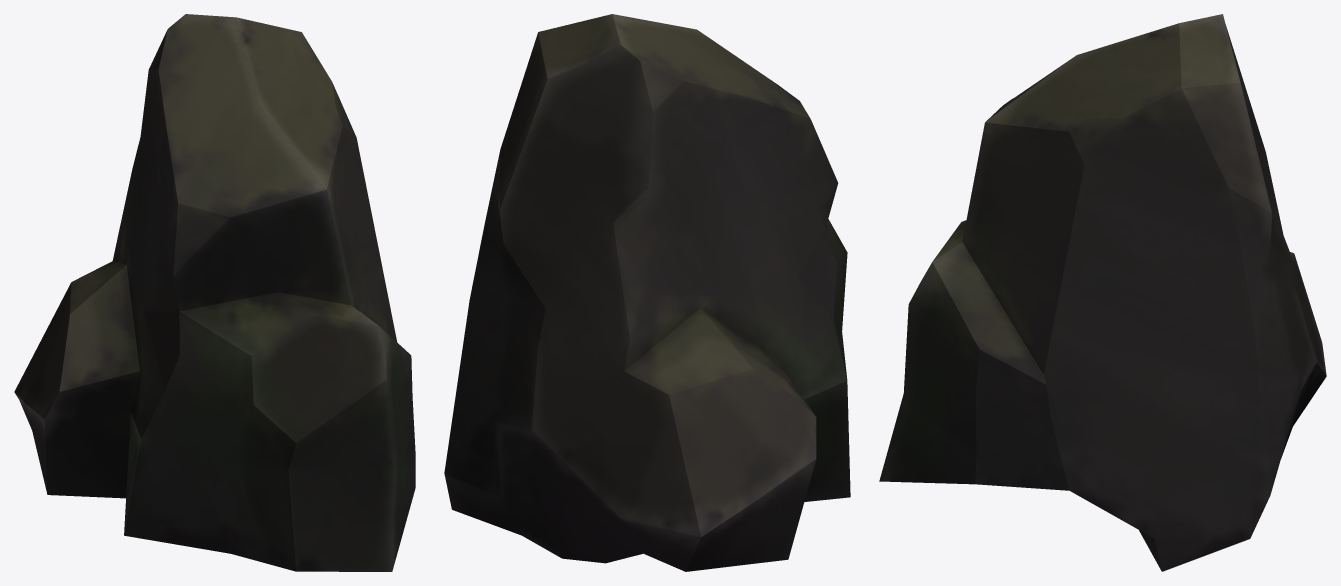
Rendered from rock_1.glb.
The picture shows the model from 3 angles, left to right: view 1: azimuth 30°, elevation 25°; view 2: azimuth 150°, elevation 25°; view 3: azimuth 270°, elevation 25°; orthographic projection. The views are drawn at different scales.
Parts seen in each view (by area): view 1: Rock_12; view 2: Rock_12; view 3: Rock_12.
Part boxes in pixels (<box>): Rock_12: <box>14,14,415,571</box>; Rock_12: <box>444,14,850,571</box>; Rock_12: <box>879,14,1326,571</box>.
Size of the model in its own units: 0.7107 by 1.08 by 0.8874.
Materials: 1 (1 with a texture image).
